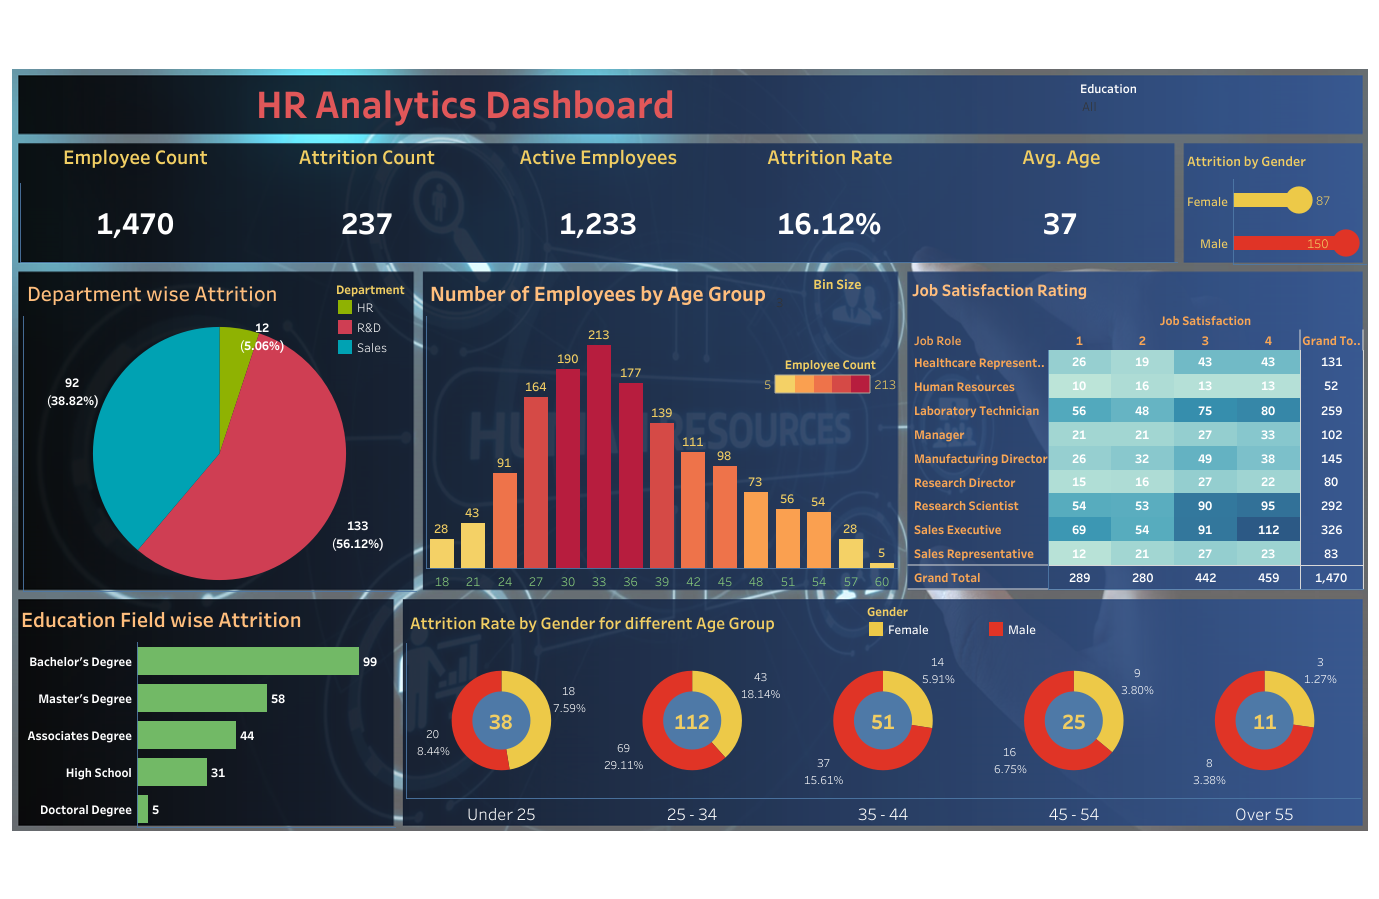

The page's visual inventory and layout, read from the dashboard file:
{"tool":"tableau","page":{"name":"HR Analytics Dashboard","canvas":[1380,900],"ordinal":0},"visuals":[{"type":"image","param":"Image/HR background.png","box":[8,8,1364,884]},{"type":"text","box":[68,75,795,55]},{"type":"filter","title":"Sheet 3","param":"[federated.0j1hty805srbqx110zyc60jhmyod].[none:Education:nk]","box":[1080,78,242,55]},{"type":"worksheet","title":"KPI","mark":"Automatic","box":[20,143,1157,119]},{"type":"worksheet","title":"Attrition by Gender","mark":"Automatic","rows":["Gender"],"cols":["Calculation_564357387276611672","Calculation_564357387276611672"],"box":[1183,145,183,119]},{"type":"worksheet","title":"Job Satisfaction Rating","mark":"Square","rows":["Job Role"],"cols":["Job Satisfaction"],"box":[908,272,455,317]},{"type":"worksheet","title":"Sheet 3","mark":"Pie","box":[23,273,393,318]},{"type":"worksheet","title":"Sheet 4","mark":"Automatic","rows":["Employee Count"],"cols":["Age (bin)"],"box":[426,273,472,317]},{"type":"parameter","param":"[Parameters].[Parameter 1]","box":[774,273,127,58]},{"type":"legend","title":"Sheet 3","param":"[federated.0j1hty805srbqx110zyc60jhmyod].[none:Department:nk]","box":[335,278,80,77]},{"type":"legend","title":"Sheet 4","param":"[federated.0j1hty805srbqx110zyc60jhmyod].[sum:Employee Count:qk]","box":[760,351,141,45]},{"type":"worksheet","title":"Education Field wise Attrition","mark":"Automatic","rows":["Education"],"cols":["Calculation_564357387276611672"],"box":[17,599,378,228]},{"type":"legend","title":"Attrition Rate by Gender for different Age Group","param":"[federated.0j1hty805srbqx110zyc60jhmyod].[none:Gender:nk]","box":[866,600,478,45]},{"type":"worksheet","title":"Attrition Rate by Gender for different Age Group","mark":"Pie","rows":["Calculation_2107825425224921131","Calculation_2107825425224921131"],"cols":["CF_age band"],"box":[406,605,954,220]}]}

Visuals, with their boxes in screenshot pixels (x1, y1, x2, y2), scaled from the page's 1380x900 canvas onto the 1379x899 screenshot:
image: (x1=8, y1=8, x2=1371, y2=891)
text: (x1=68, y1=75, x2=862, y2=130)
"Sheet 3" filter: (x1=1079, y1=78, x2=1321, y2=133)
"KPI" worksheet: (x1=20, y1=143, x2=1176, y2=262)
"Attrition by Gender" worksheet: (x1=1182, y1=145, x2=1365, y2=264)
"Job Satisfaction Rating" worksheet (Square marks): (x1=907, y1=272, x2=1362, y2=588)
"Sheet 3" worksheet (Pie marks): (x1=23, y1=273, x2=416, y2=590)
"Sheet 4" worksheet: (x1=426, y1=273, x2=897, y2=589)
parameter: (x1=773, y1=273, x2=900, y2=331)
"Sheet 3" legend: (x1=335, y1=278, x2=415, y2=355)
"Sheet 4" legend: (x1=759, y1=351, x2=900, y2=396)
"Education Field wise Attrition" worksheet: (x1=17, y1=598, x2=395, y2=826)
"Attrition Rate by Gender for different Age Group" legend: (x1=865, y1=599, x2=1343, y2=644)
"Attrition Rate by Gender for different Age Group" worksheet (Pie marks): (x1=406, y1=604, x2=1359, y2=824)
